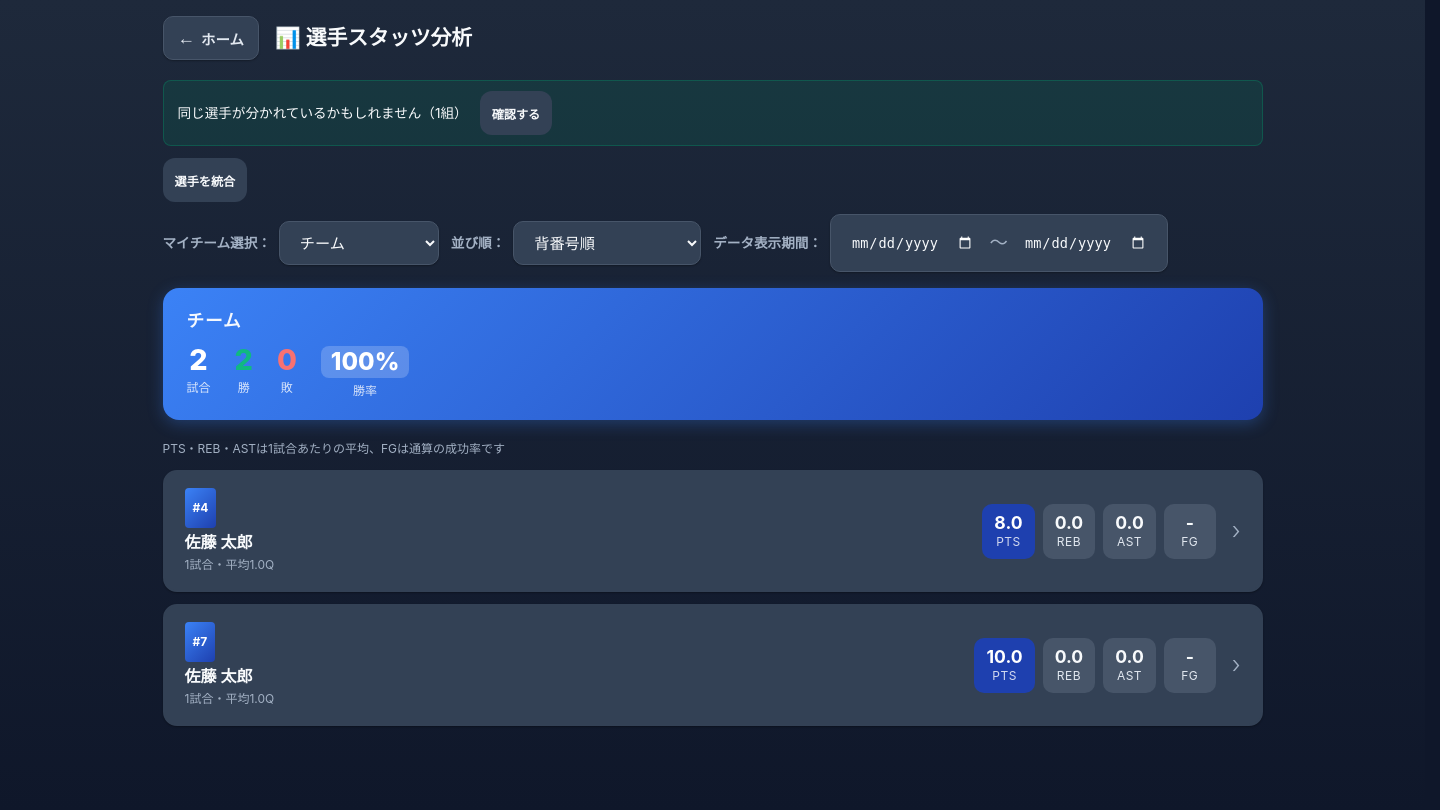
統合の流れ › 確認に代表の氏名と合算後の試合数が出る
Click the button "選手を統合" at (205, 180), box [162,158,247,202]
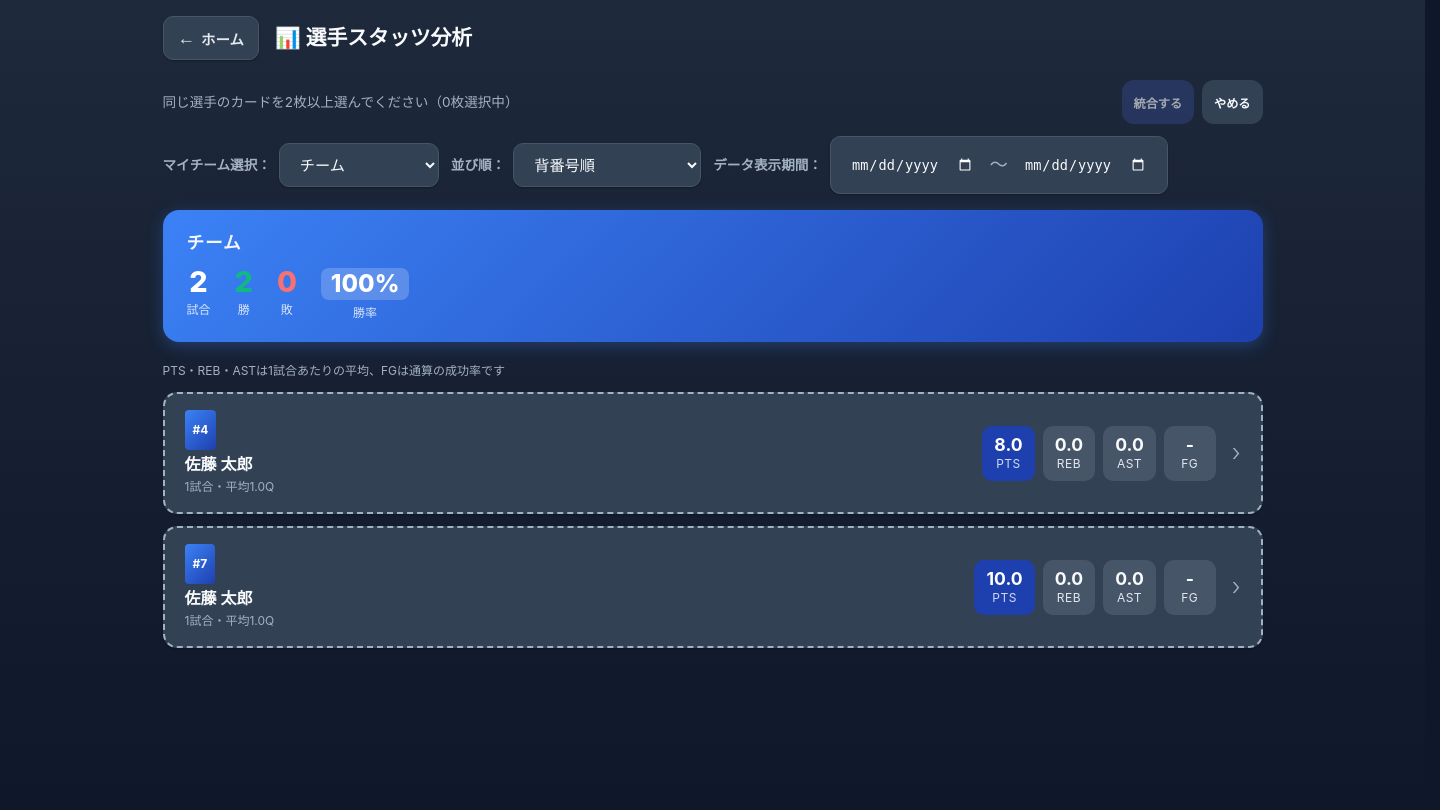
Click the button "#4 佐藤 太郎 1試合平均1.0Q 8.0 PTS 0.0 REB 0.0 AST - FG ›" at (200, 430), box [162,392,1262,514]
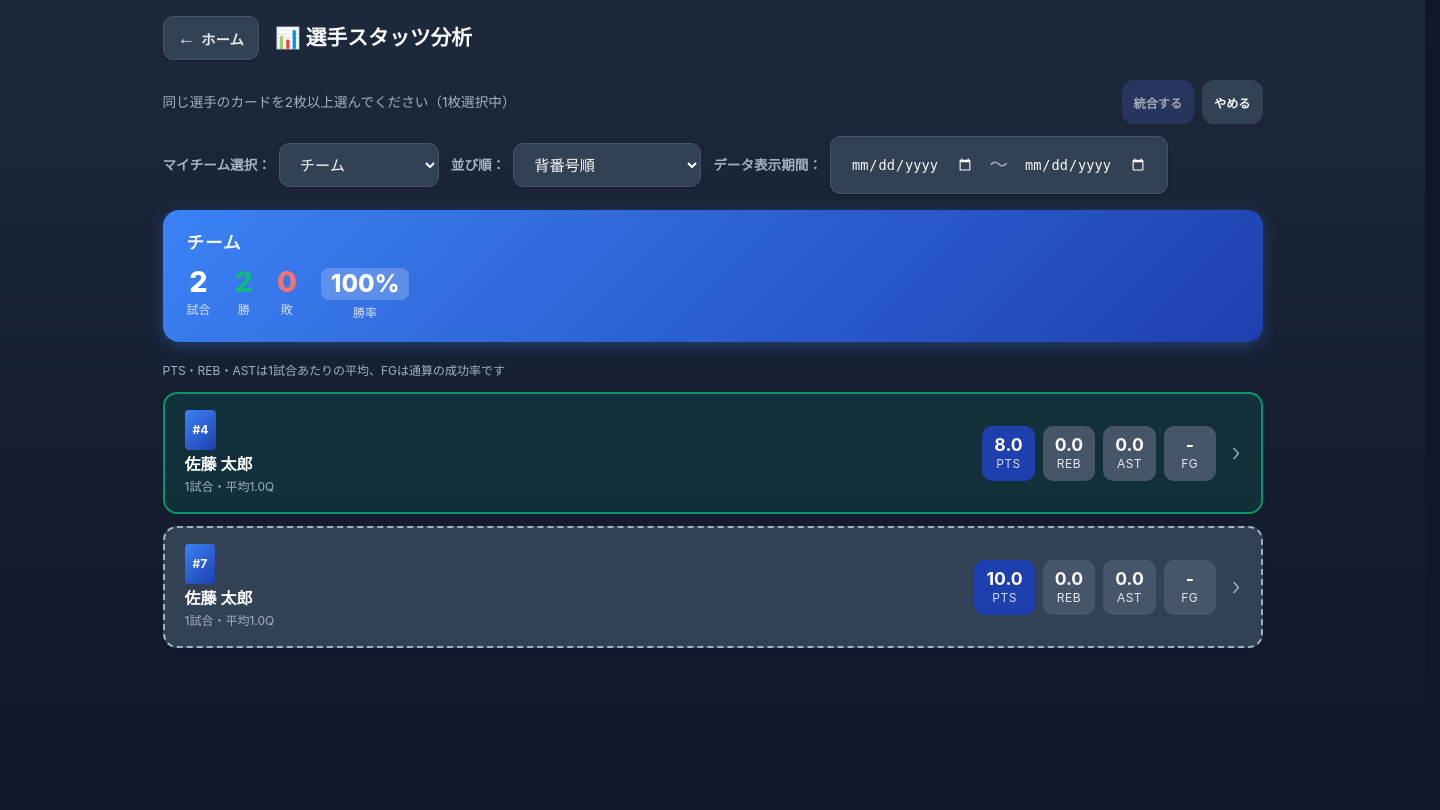
Click the button "#7 佐藤 太郎 1試合平均1.0Q 10.0 PTS 0.0 REB 0.0 AST - FG ›" at (200, 564), box [162,526,1262,648]
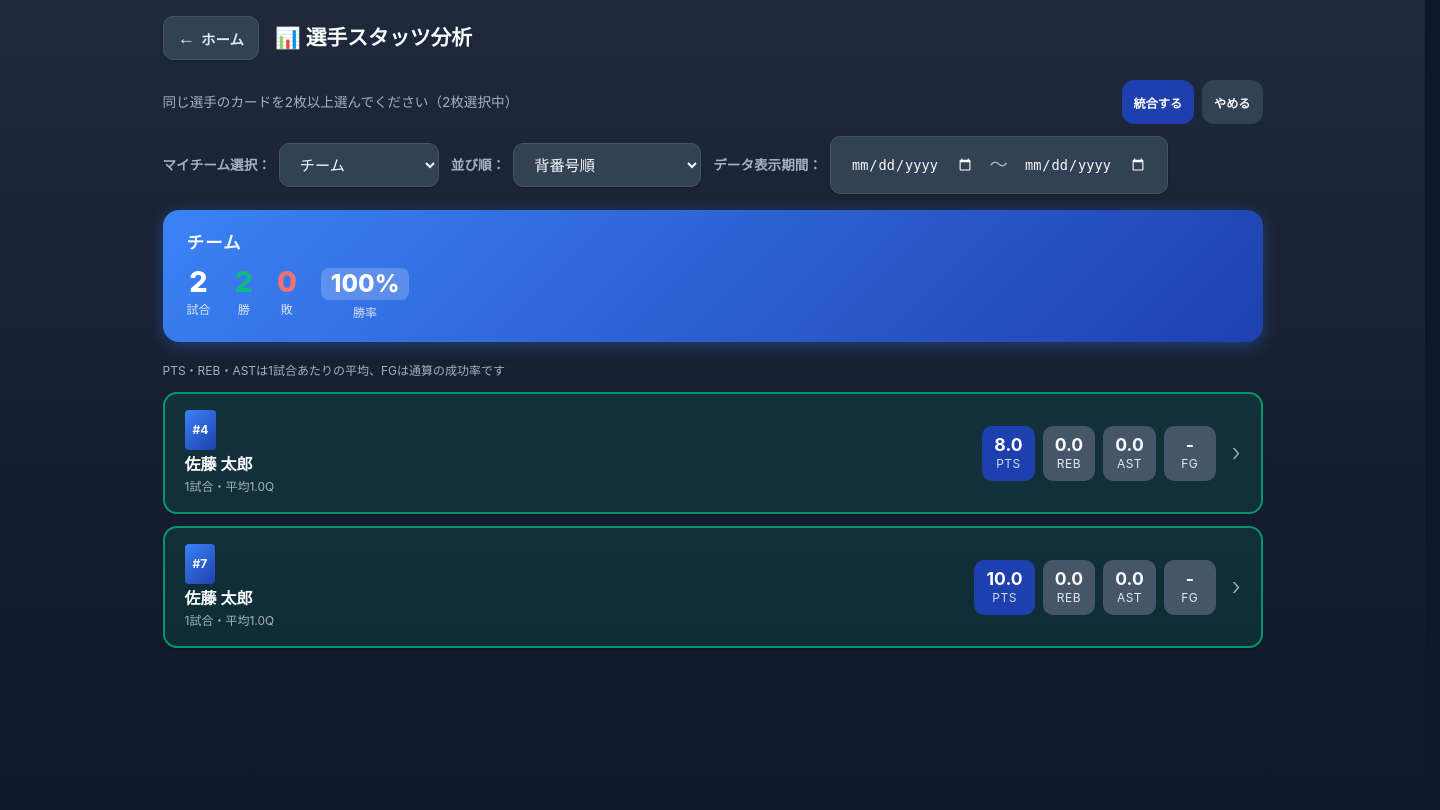
Click the button "統合する" at (1158, 102), box [1122,80,1194,124]
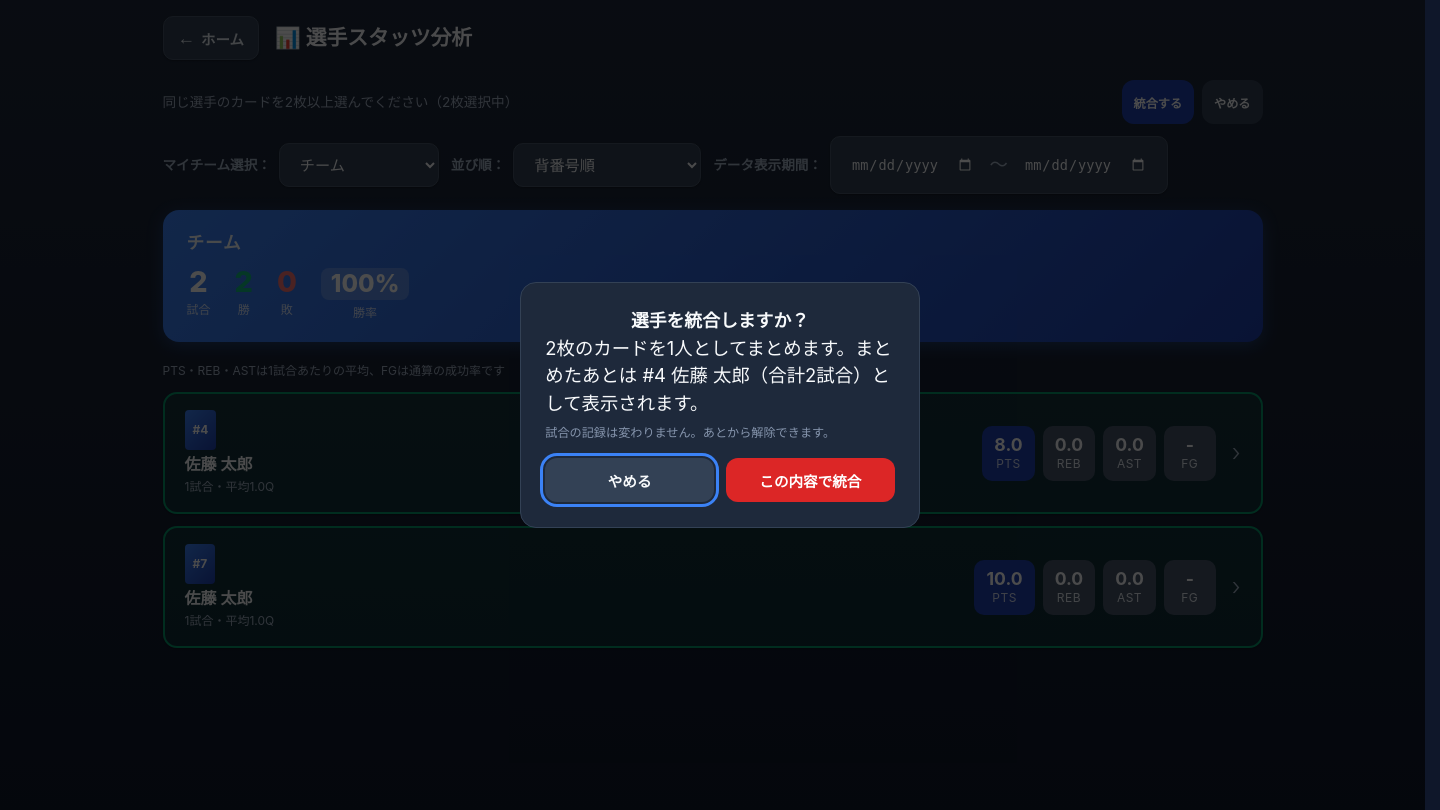
Now the text "2枚のカードを1人としてまとめます。まとめたあとは #4 佐藤 太郎（合計2試合）として表示されます。" is shown, box [545,334,895,417]
